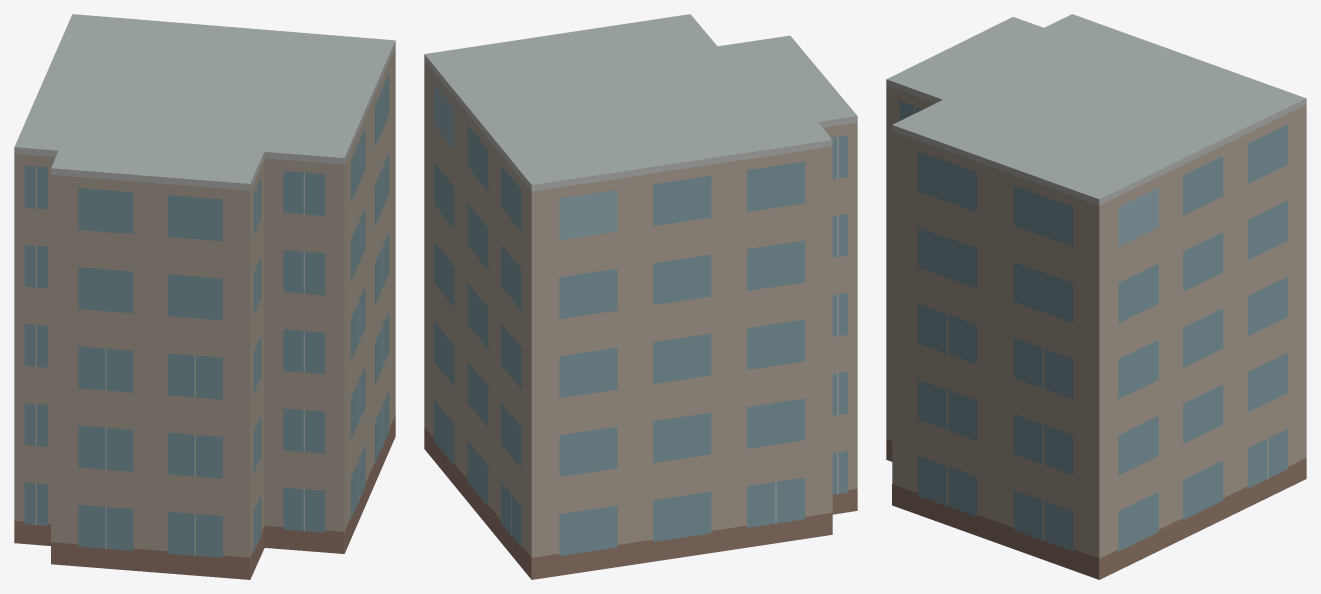
File: survey-upis-32623586.glb
3 views of the same model, side by side, from view 1: azimuth 30°, elevation 25°; view 2: azimuth 150°, elevation 25°; view 3: azimuth 270°, elevation 25° (orthographic). The views are drawn at different scales.
Parts seen in each view (by area): view 1: survey-upis-32623586.tmp; view 2: survey-upis-32623586.tmp; view 3: survey-upis-32623586.tmp.
Boxes of the visible parts, x1,y1,x2,y2 form: survey-upis-32623586.tmp: (14,14,395,579); survey-upis-32623586.tmp: (424,14,857,579); survey-upis-32623586.tmp: (886,14,1306,579).
Size of the model in its own units: 15.37 by 14.7 by 14.72.
